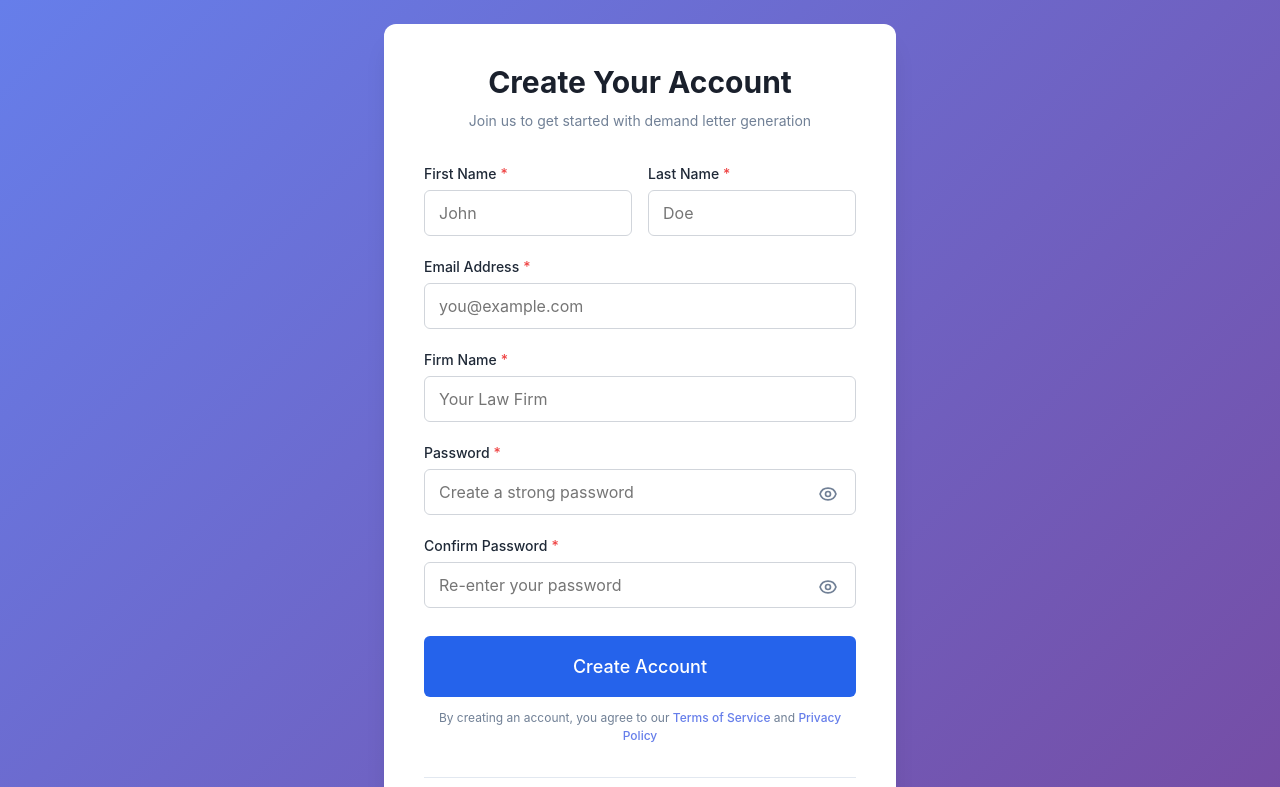
Scenario: Register Page › displays password strength indicator when typing password
This screenshot has width=1280, height=787.
Type "Weak1!" into the password field labelled "Password *" at coordinates (640, 492), box [424, 468, 856, 514]
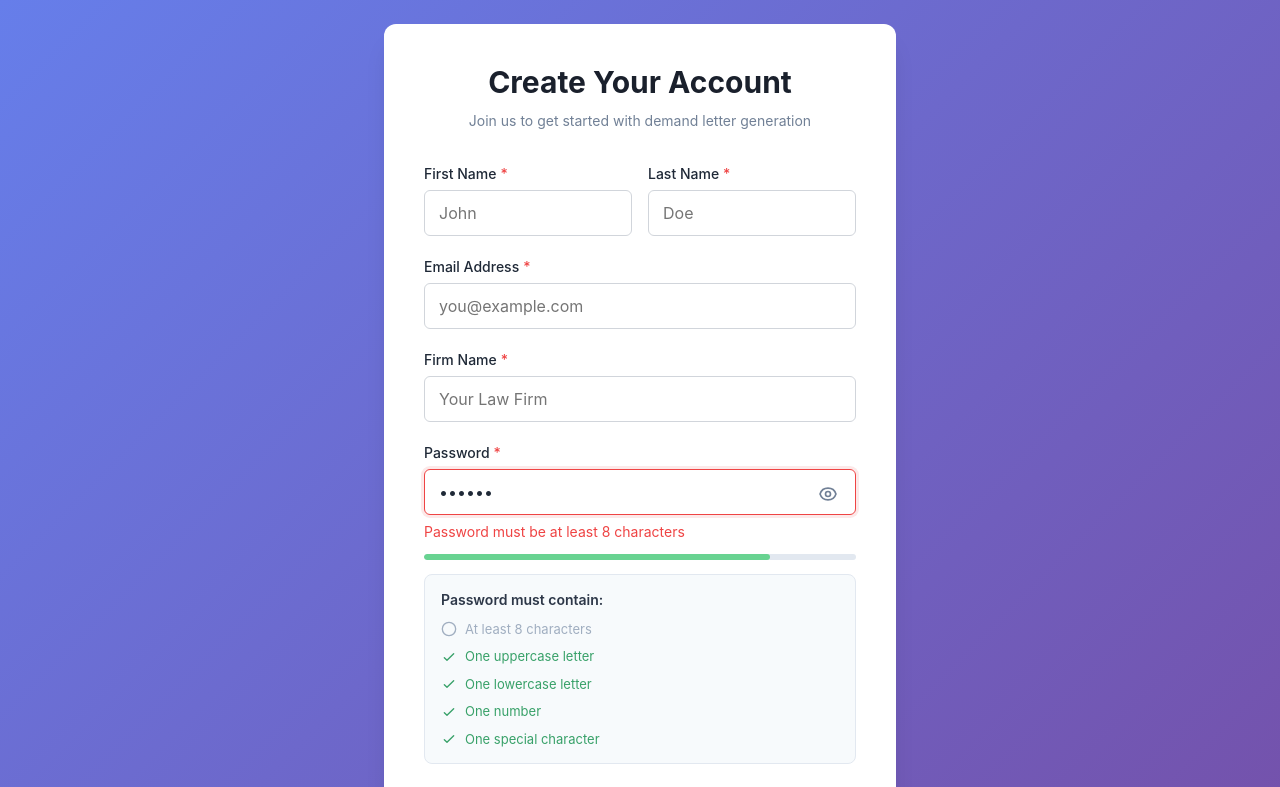
Result: the text "Password must contain:" is shown at [441, 590, 603, 608]
